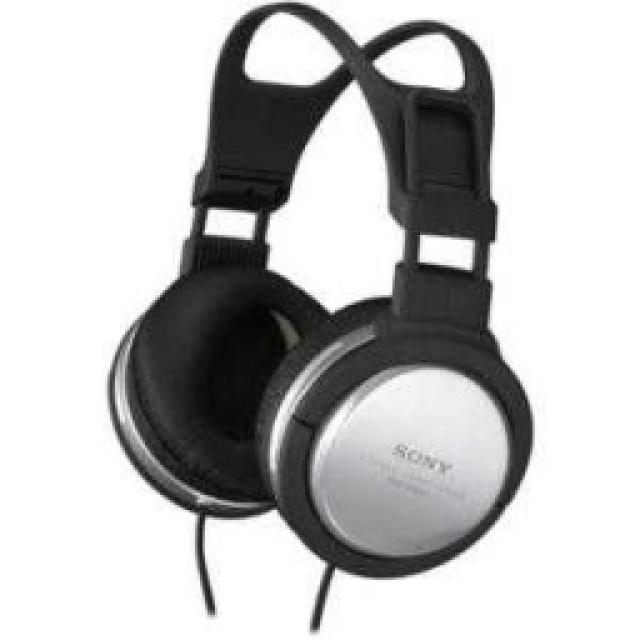headphones: (105, 0, 535, 580)
